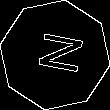N_W: (26, 30, 84, 80)
